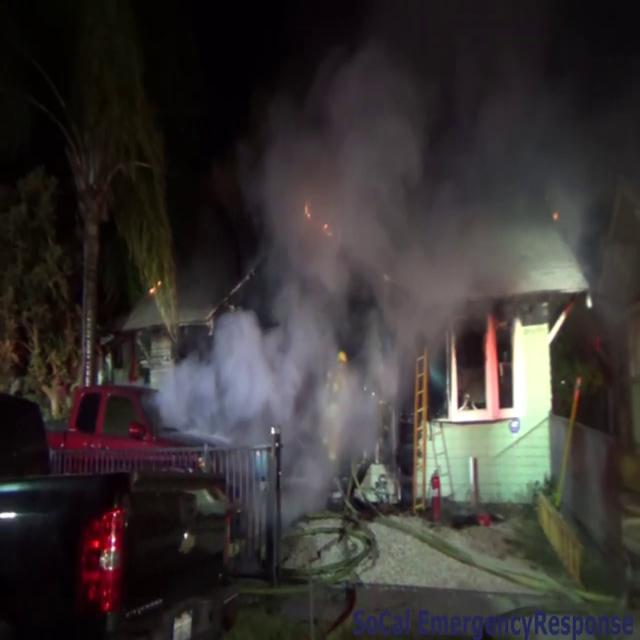Smoke: (180, 14, 454, 482), (266, 0, 636, 318)
